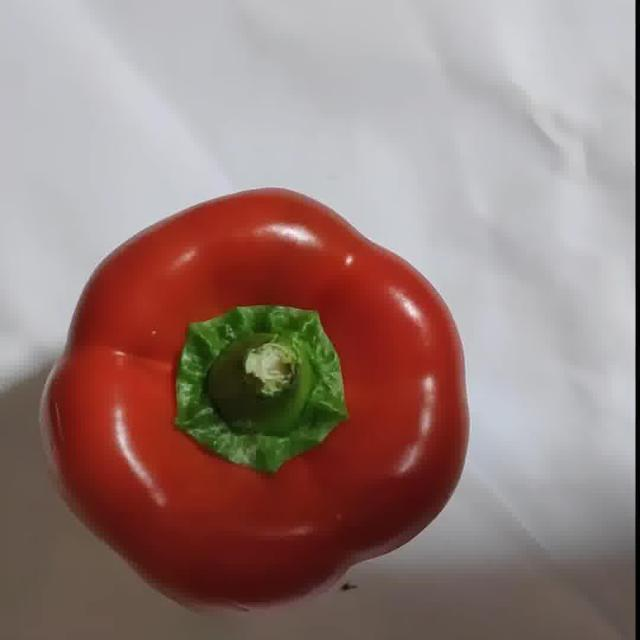Bell Pepper: (45, 189, 468, 605)
